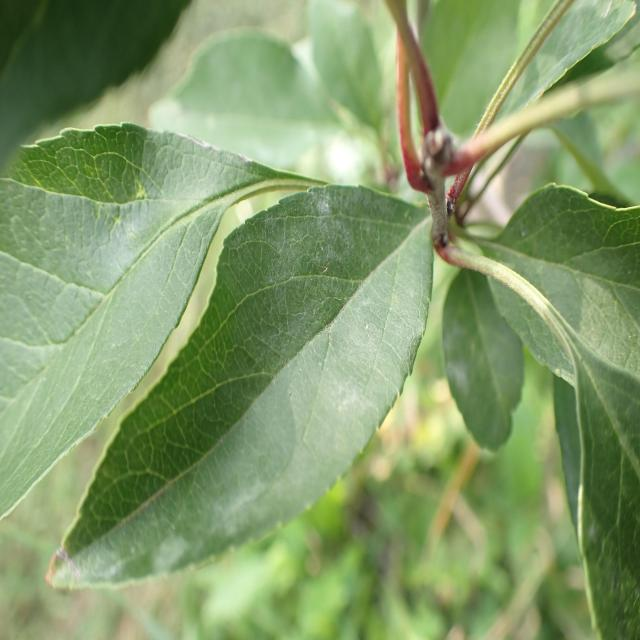Powdery_mildew: (86, 184, 432, 579)
